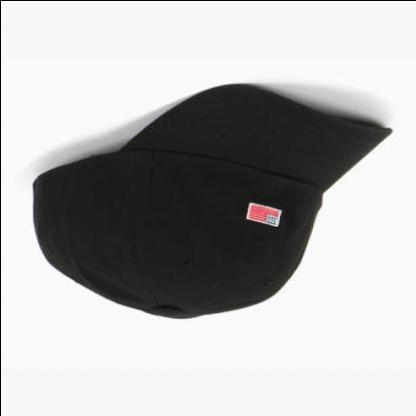cap: (28, 77, 400, 324)
